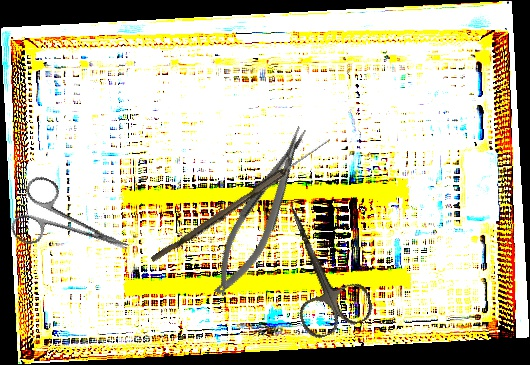Iris Scissors: (259, 190, 377, 343), (6, 172, 142, 282)
Needle Holder: (200, 121, 325, 303)
Surgical Spoon: (150, 134, 333, 267)
